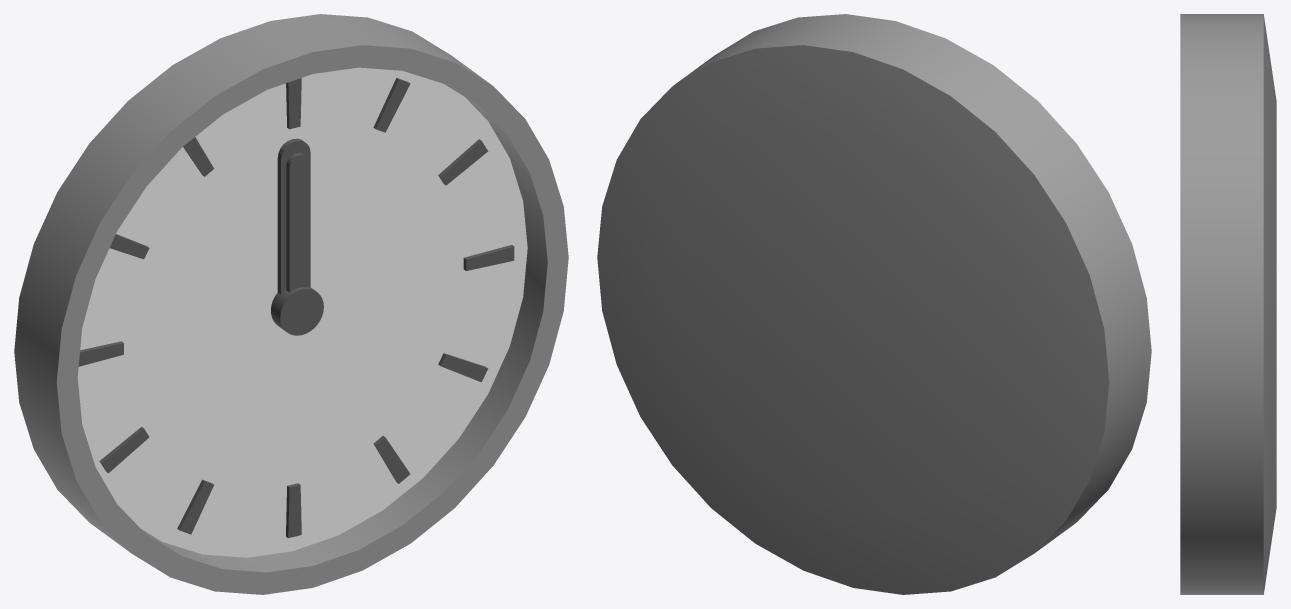
File: twelve_oclock.glb
3 views of the same model, side by side, from view 1: azimuth 30°, elevation 25°; view 2: azimuth 150°, elevation 25°; view 3: azimuth 270°, elevation 25° (orthographic).
Parts seen in each view (by area): view 1: Circle.2429; view 2: Circle.2429; view 3: Circle.2429.
Boxes of the visible parts, x1,y1,x2,y2 form: Circle.2429: (14, 14, 568, 594); Circle.2429: (597, 14, 1151, 594); Circle.2429: (1180, 14, 1276, 594).
Size of the model in its own units: 2.33 by 2.33 by 0.387.
Materials: 1 (1 with a texture image).
